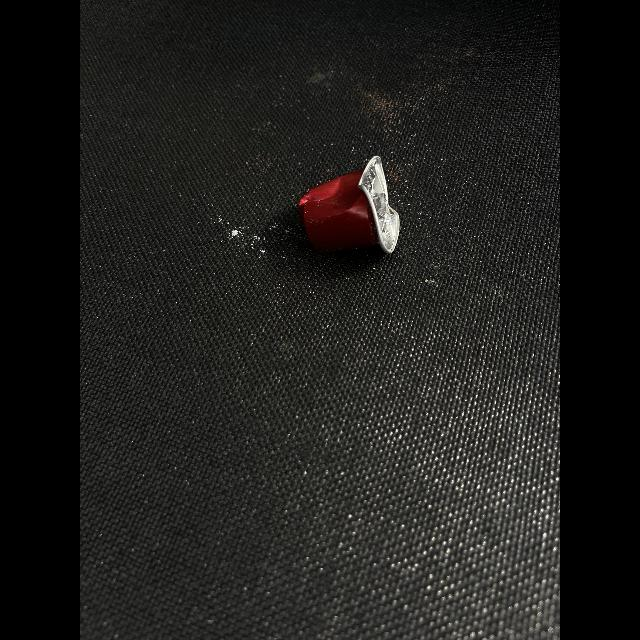damaged_capsule: (280, 148, 424, 272)
